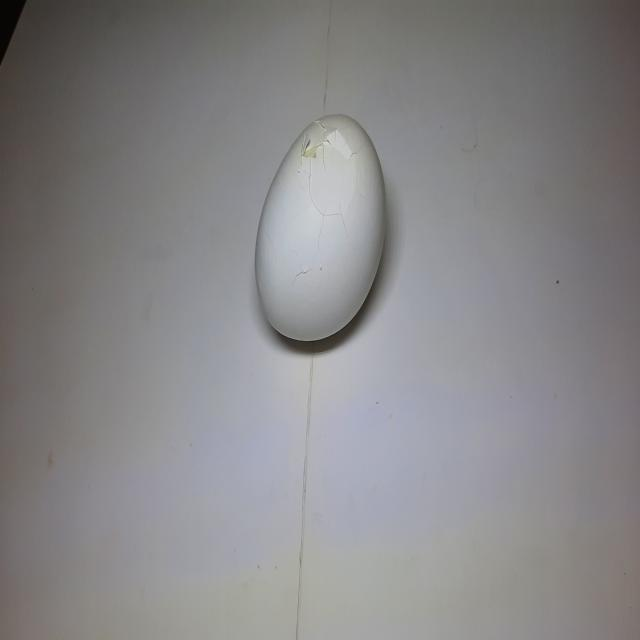egg shell: (254, 109, 388, 348)
